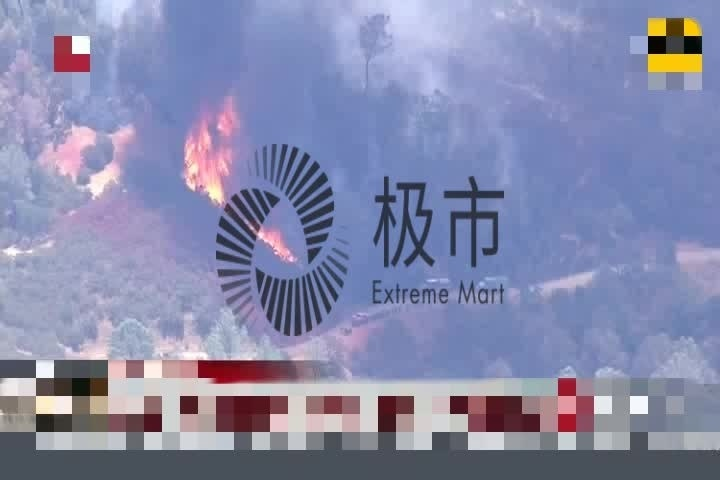fire: (180, 96, 296, 261)
